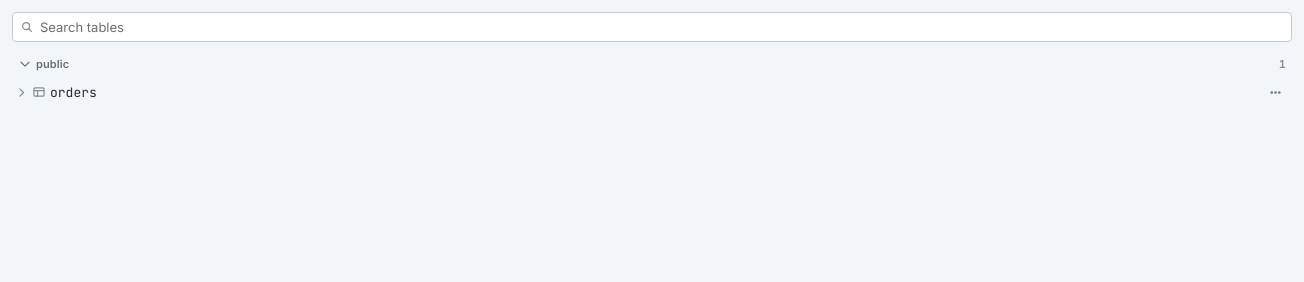
it: TableList › context menu actions are disabled while executing
The width and height of the screenshot is (1304, 282).
Click the button named "Table actions".
click(1275, 92)  # box [1262,79,1288,105]
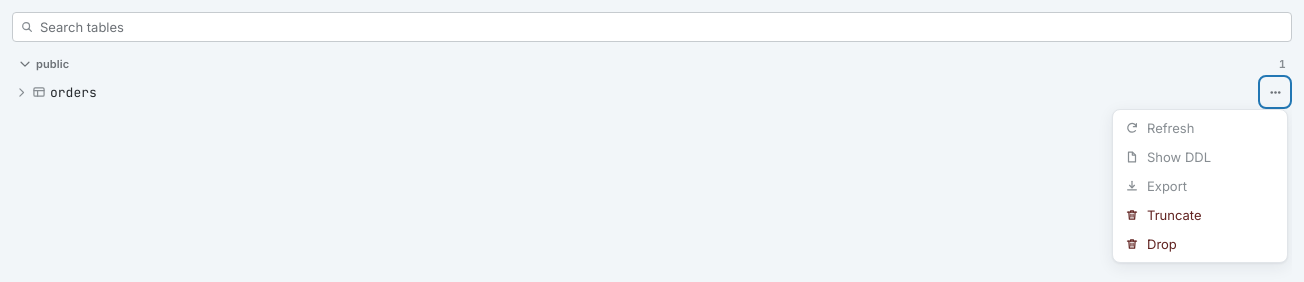
Check: the menu item "Drop" is disabled, box [1117,230,1283,258]
Check: the menu item "Truncate" is disabled, box [1117,201,1283,229]
